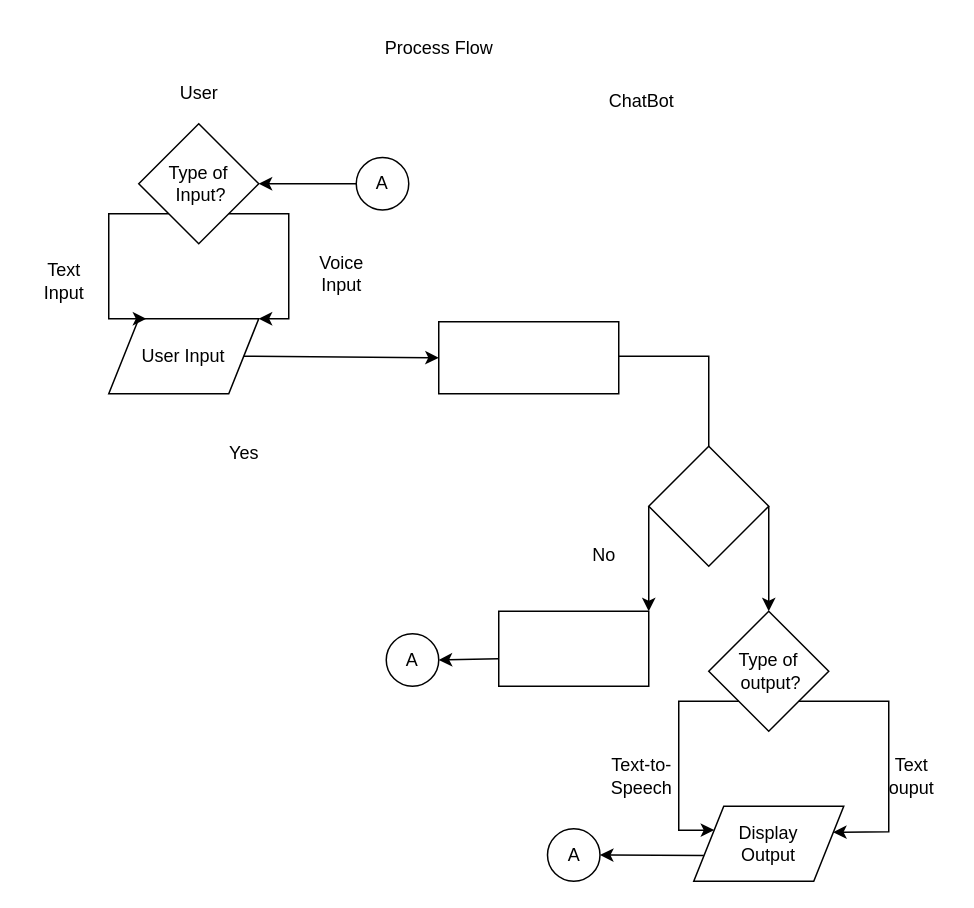
This 974x908 diagram has some shape labels left out. Here are the shapes that lost their labels. From the top down, the centre of each, then its label:
At (x=528, y=357): "Filter the Input using Algolia".
At (x=708, y=505): "Find the input in database?".
At (x=573, y=648): "Ask to Repeat".
